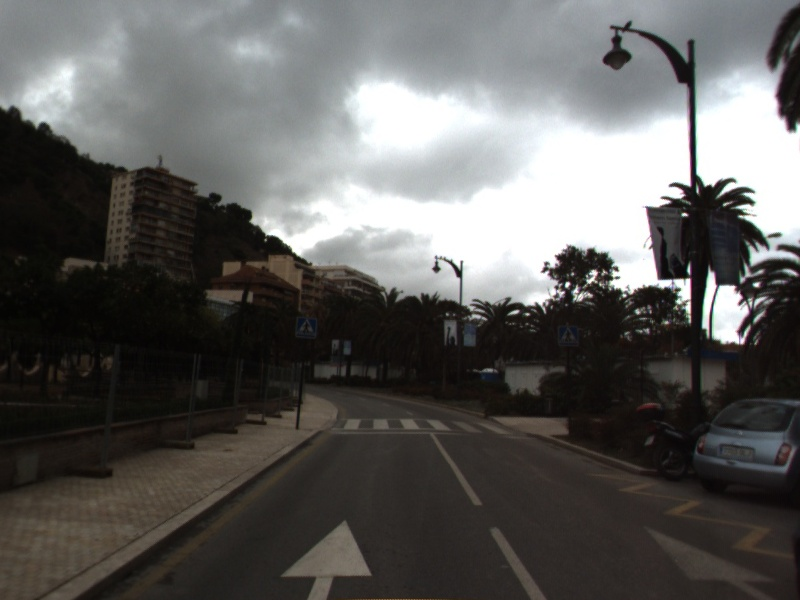STRAIGHT: (641, 523, 778, 600), (278, 518, 374, 600)
